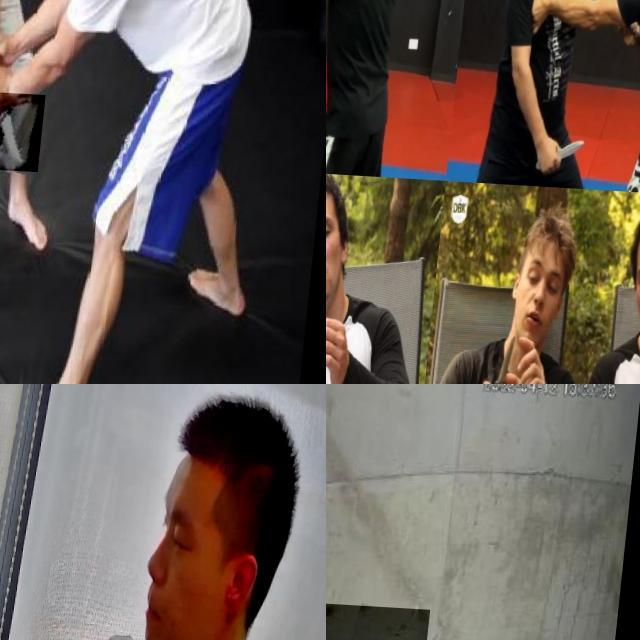-: (0, 87, 53, 167), (326, 250, 353, 384), (491, 313, 539, 384), (546, 122, 599, 166), (326, 59, 356, 110)
gun-knife-thesis - v11 Yolov5 augmented: (0, 384, 58, 550)
